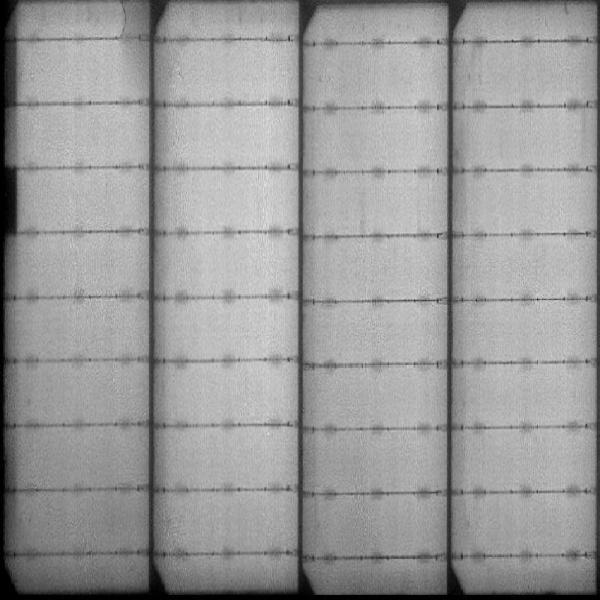black_border: (1, 32, 23, 129), (1, 164, 17, 241)
scratch: (115, 1, 129, 39)
